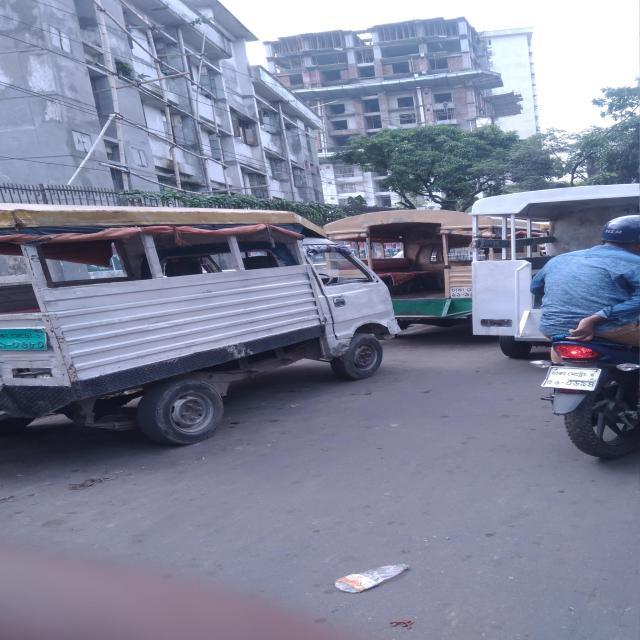Leguna: (1, 182, 416, 479), (316, 192, 565, 350), (453, 157, 640, 357)
Motorbike: (535, 217, 640, 497)
